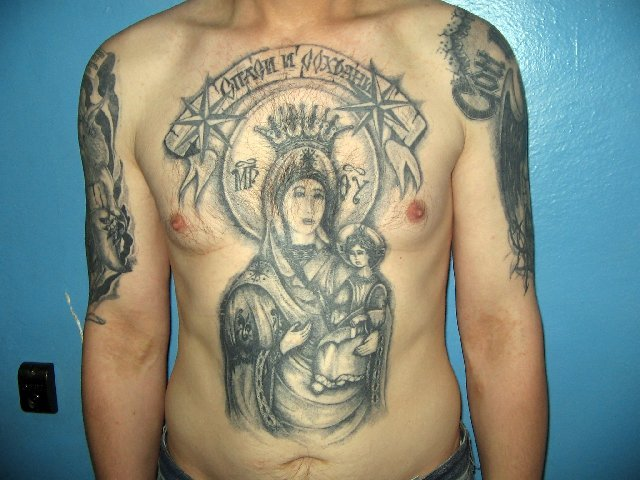tatu2_bogorodica: (208, 52, 424, 440)
